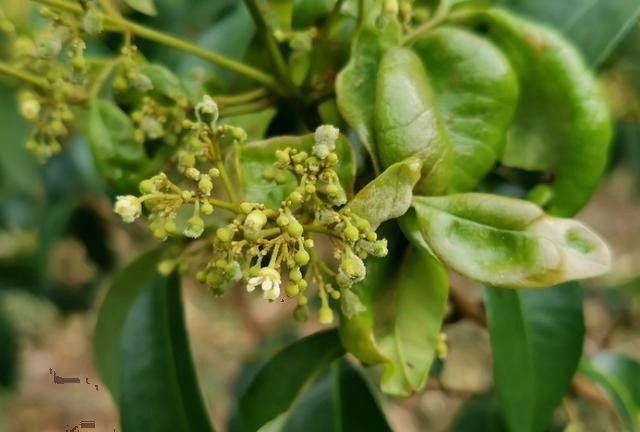Stink_Bug: (148, 123, 368, 288)
